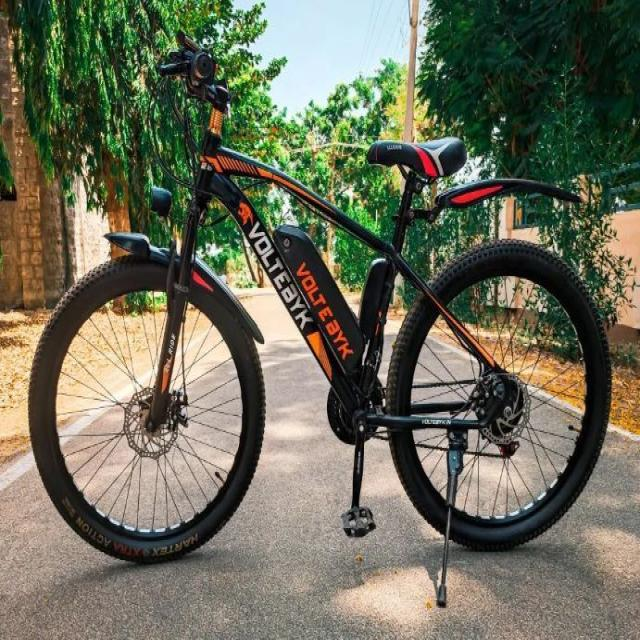bicycle: (29, 32, 611, 604)
